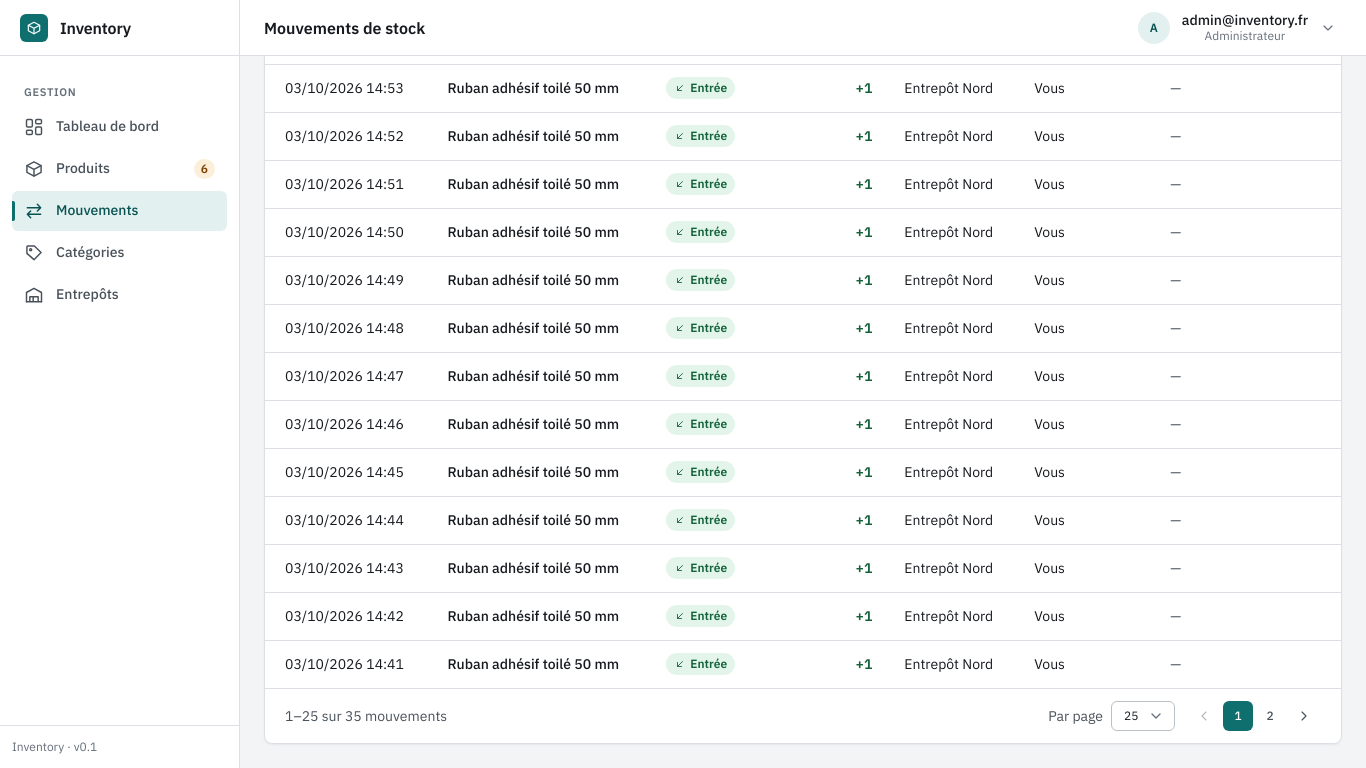
Test: MovementsPage › pages through the movements, keeping the current page on screen while the next one loads
This screenshot has width=1366, height=768.
(page scrolled)
Expected: the navigation bar named "Pagination" shows "1–25 sur 35 mouvements", [285,706,447,724]
Click the button named "Page suivante": {"x": 1304, "y": 716} [1287,701,1321,731]
(page scrolled)
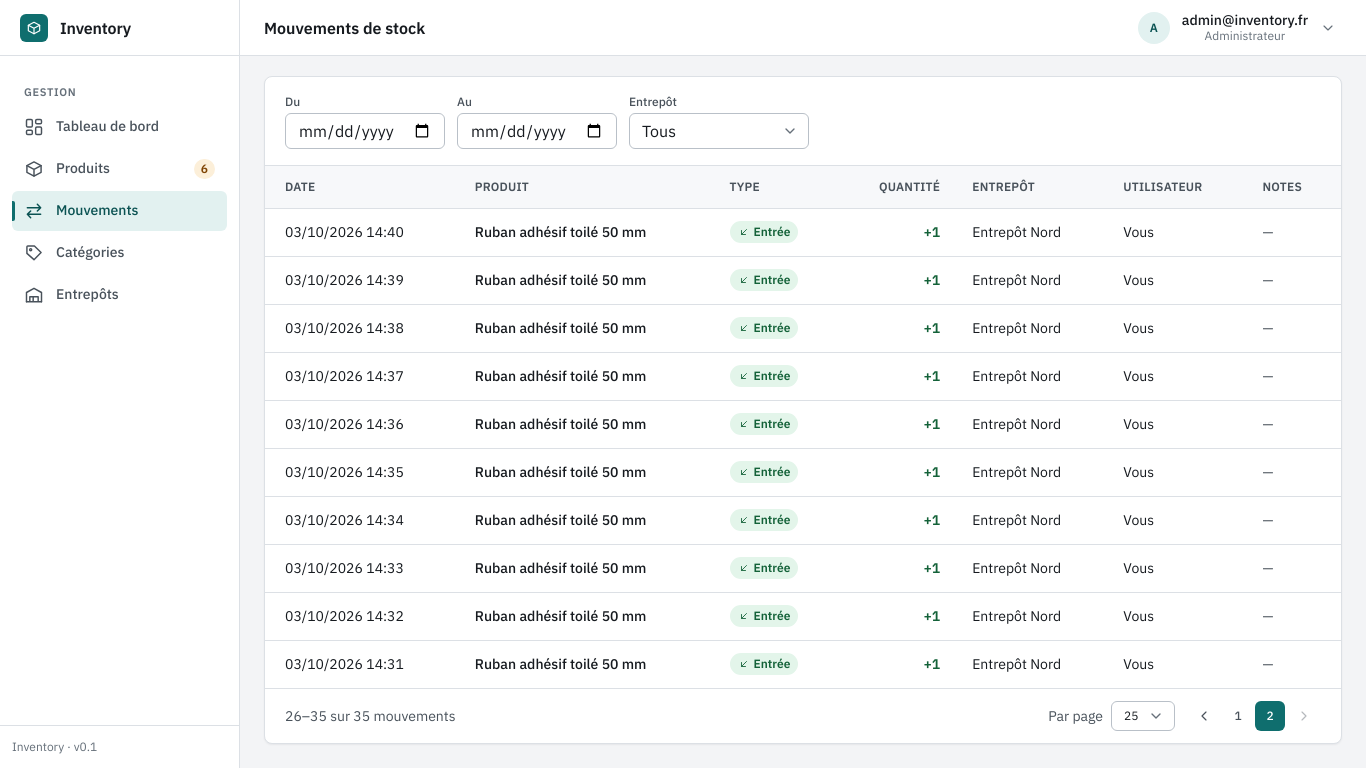
Result: the navigation bar named "Pagination" shows "26–35 sur 35 mouvements" at [285,706,456,724]
// A new page size starts again from the first page.
Select "10" in the dropdown named "Éléments par page": {"x": 1143, "y": 716} [1111,701,1175,731]
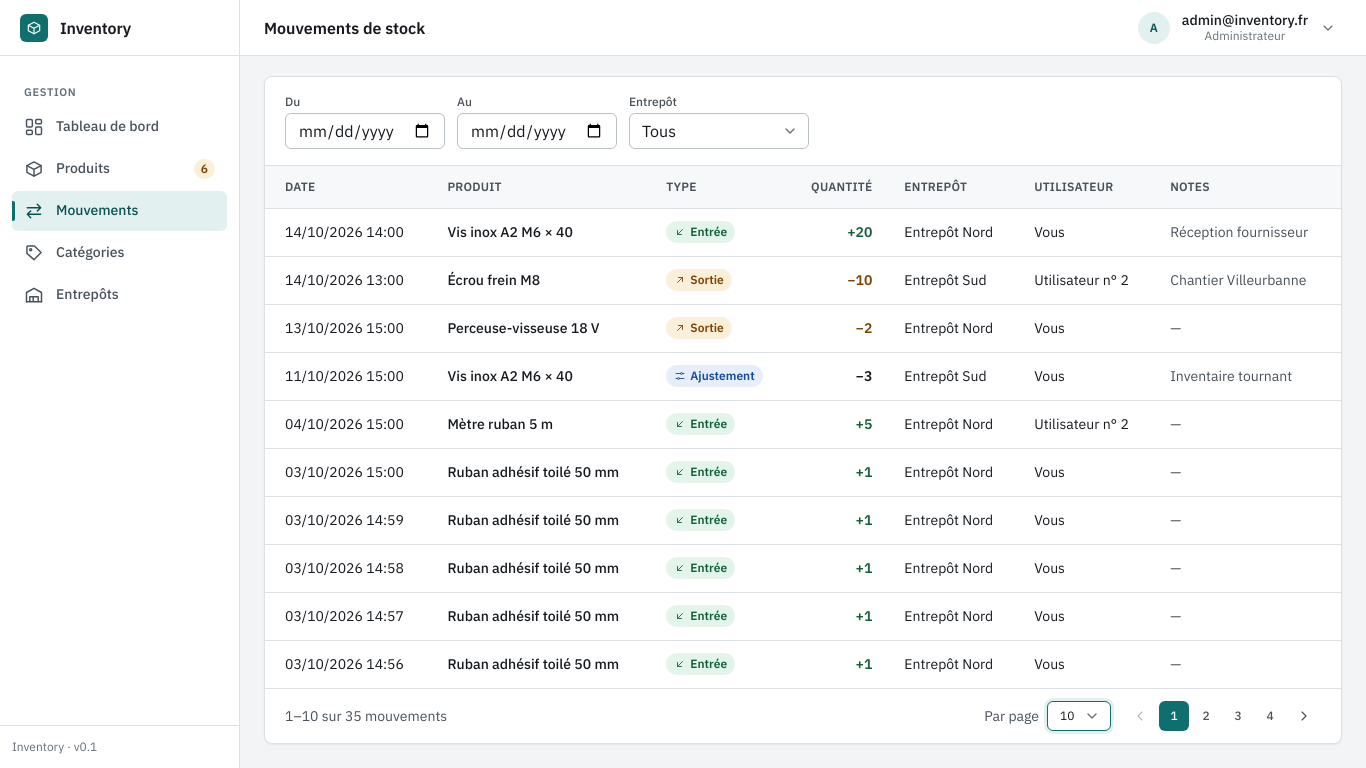
Result: the navigation bar named "Pagination" shows "1–10 sur 35 mouvements" at [285,706,447,724]
Result: the number of buttons "1" is 4 at [1159,701,1189,731]; [1191,701,1221,731]; [1223,701,1253,731]; [1255,701,1285,731]
